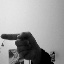g: (1, 31, 40, 61)
